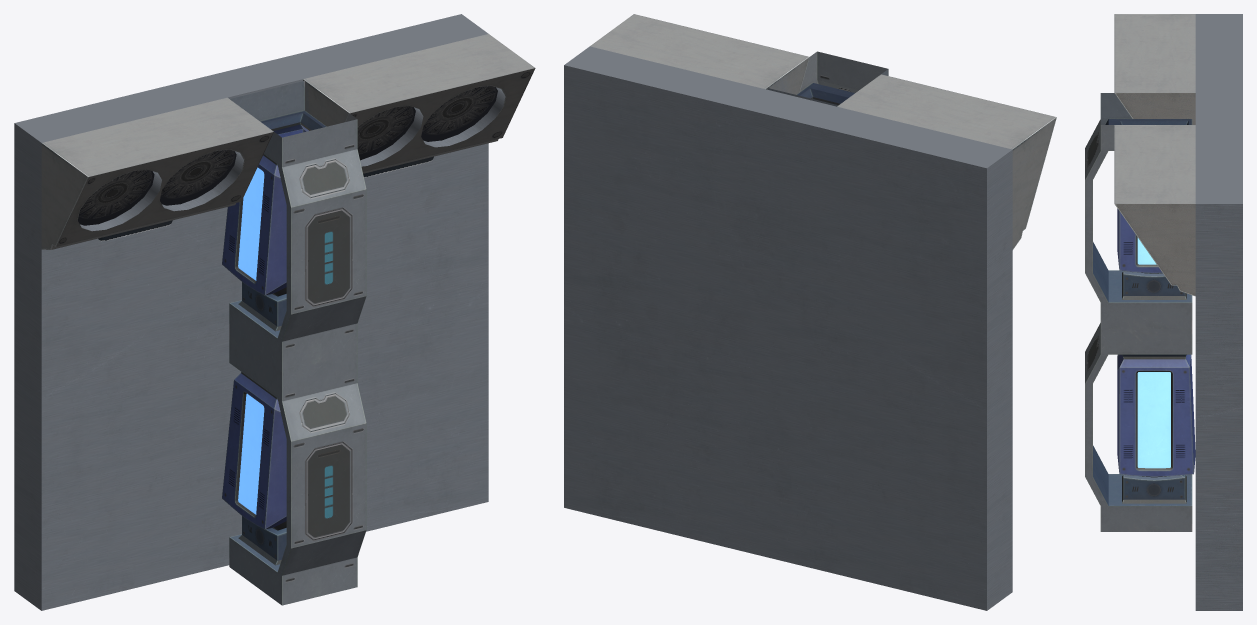
Rendered from DS_SM022_Scifi_Room_WallFlat_01.fbx.
3 renders of one model, left to right at view 1: azimuth 30°, elevation 25°; view 2: azimuth 150°, elevation 25°; view 3: azimuth 270°, elevation 25°, orthographic. The views are drawn at different scales.
Parts seen in each view (by area): view 1: DS_SM022_Scifi_Room_WallFlat_01; view 2: DS_SM022_Scifi_Room_WallFlat_01; view 3: DS_SM022_Scifi_Room_WallFlat_01.
Part boxes in pixels (box(x1,y1,x2,y2)): DS_SM022_Scifi_Room_WallFlat_01: box(14, 14, 535, 610); DS_SM022_Scifi_Room_WallFlat_01: box(564, 14, 1056, 610); DS_SM022_Scifi_Room_WallFlat_01: box(1085, 14, 1242, 610).
Size of the model in its own units: 800 by 800 by 281.
